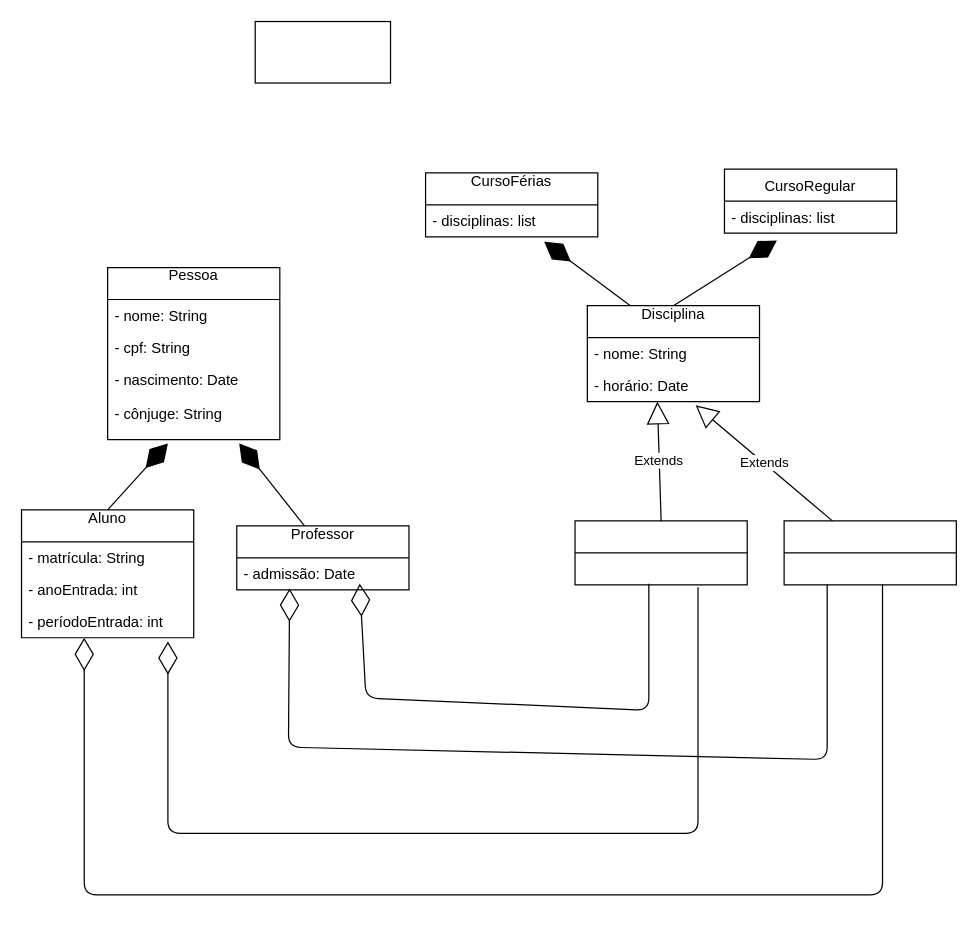
Image size: 978x948. Some labels were removed from this diagram. The centre of each missing label's shape, as x and y in pixels:
DisciplinaFerias: the point at 660,552
DisciplinaRegular: the point at 869,552
«interface» Sistema: the point at 322,51
